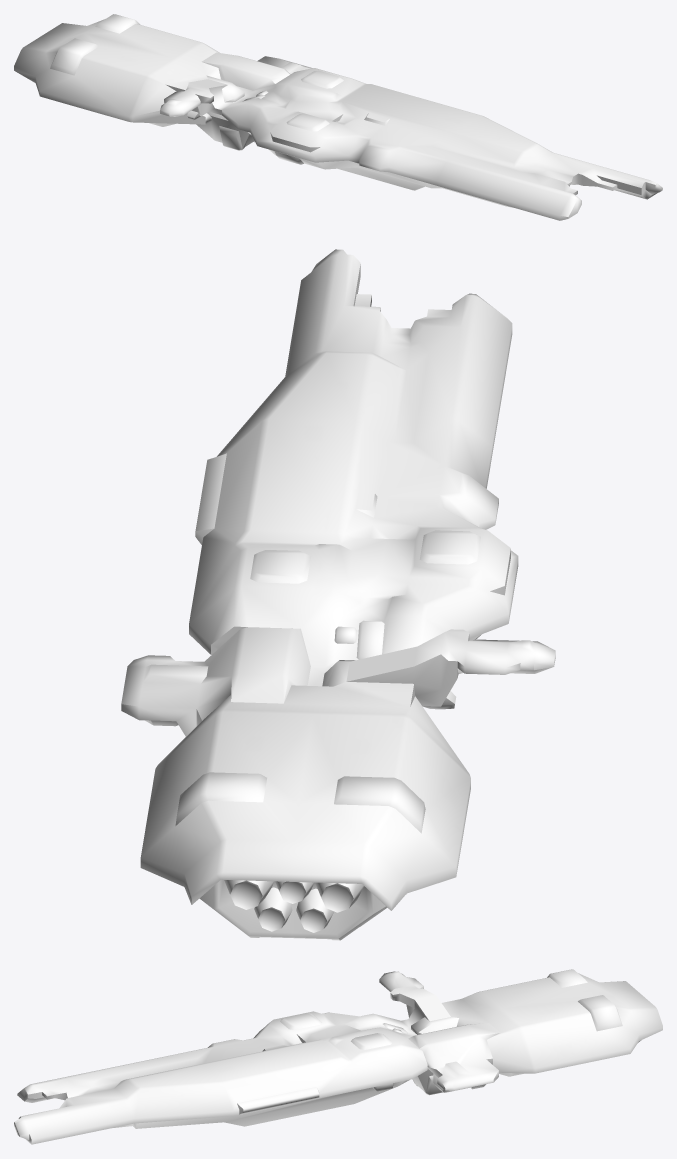
File: MissionSequence_Tutorial_Undock.glb
3 renders of one model, top to bottom at view 1: azimuth 30°, elevation 25°; view 2: azimuth 150°, elevation 25°; view 3: azimuth 270°, elevation 25°, orthographic. The views are drawn at different scales.
Parts seen in each view (by area): view 1: hgn_fs_expe_01_t1_LOD1; view 2: hgn_fs_expe_01_t1_LOD1; view 3: hgn_fs_expe_01_t1_LOD1.
Boxes of the visible parts, bbox=[...] form: hgn_fs_expe_01_t1_LOD1: bbox=[14, 14, 662, 220]; hgn_fs_expe_01_t1_LOD1: bbox=[121, 249, 555, 940]; hgn_fs_expe_01_t1_LOD1: bbox=[14, 969, 662, 1144].
Size of the model in its own units: 6.45 by 1.36 by 10.6.
Materials: 1 (1 with a texture image).
